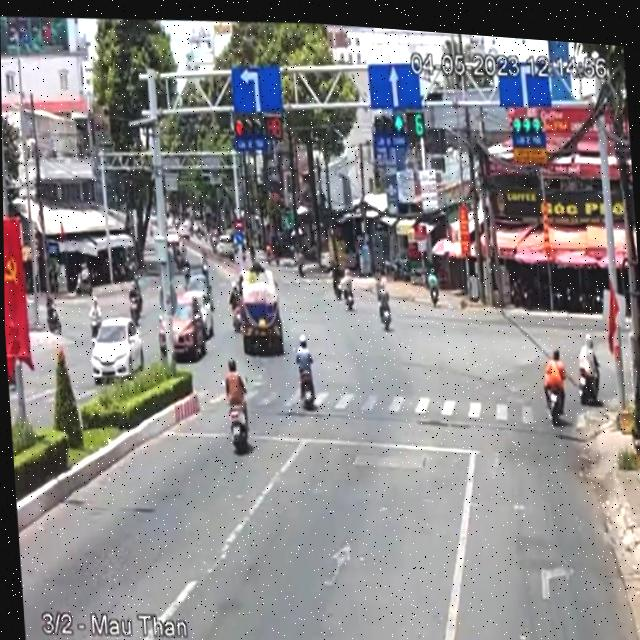Green: (373, 108, 405, 129)
Red: (233, 114, 263, 134)
